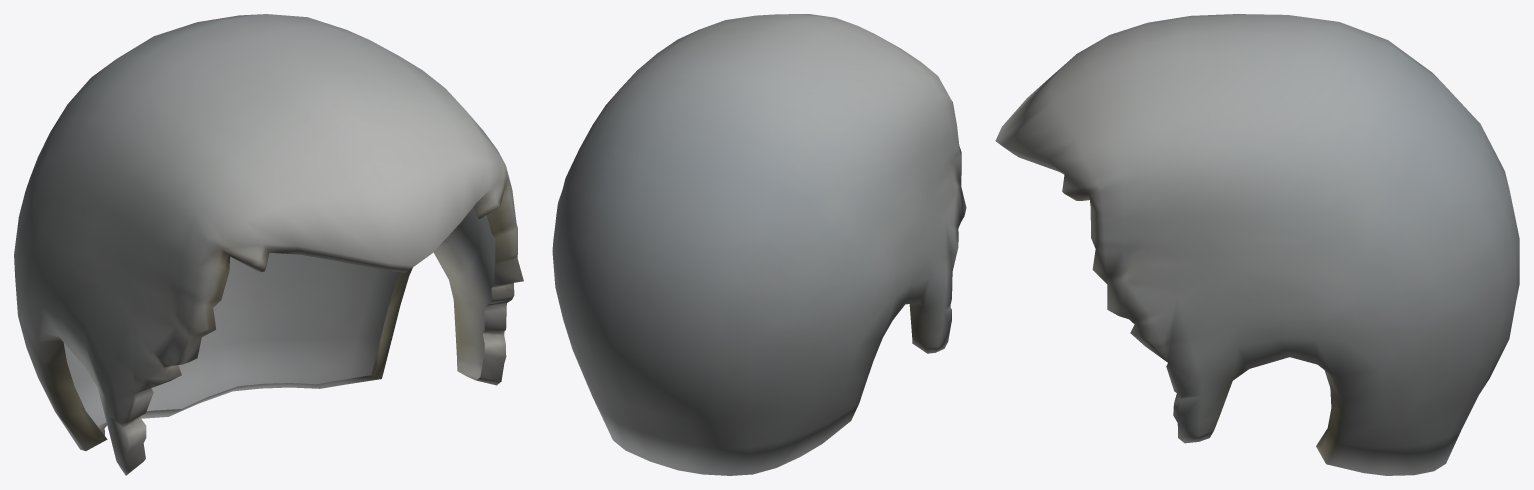
Rendered from Hair_BuzzedFemale.gltf.
The picture shows the model from 3 angles, left to right: view 1: azimuth 30°, elevation 25°; view 2: azimuth 150°, elevation 25°; view 3: azimuth 270°, elevation 25°; orthographic projection. The views are drawn at different scales.
Visible parts, largest first — view 1: Hair_BuzzedFemale; view 2: Hair_BuzzedFemale; view 3: Hair_BuzzedFemale.
Boxes of the visible parts, box(x1,y1,x2,y2) form: Hair_BuzzedFemale: box(14, 14, 523, 475); Hair_BuzzedFemale: box(552, 14, 966, 475); Hair_BuzzedFemale: box(995, 14, 1519, 475).
Bounding box in the file's own units: 0.1587 × 0.1702 × 0.1976.
1 material, 1 textured.
